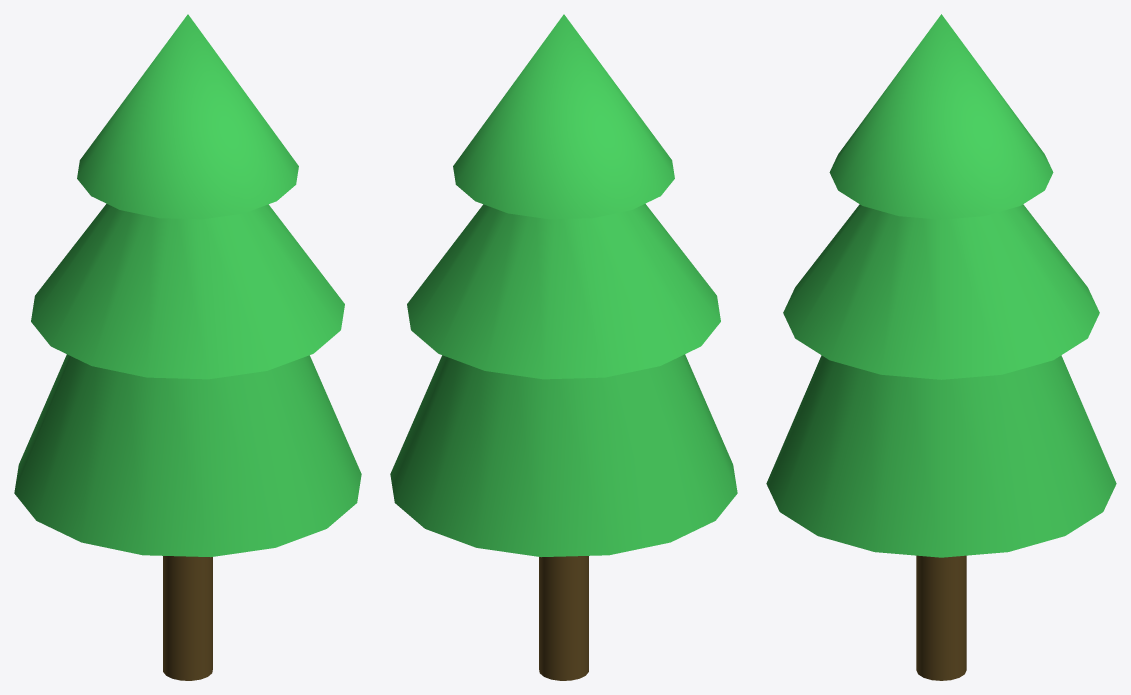
Rendered from PropsTestTree1.gltf.
3 views of the same model, side by side, from view 1: azimuth 30°, elevation 25°; view 2: azimuth 150°, elevation 25°; view 3: azimuth 270°, elevation 25° (orthographic).
Visible parts, largest first — view 1: TestTree1-col; view 2: TestTree1-col; view 3: TestTree1-col.
Boxes of the visible parts, bbox=[...] form: TestTree1-col: bbox=[14, 14, 361, 680]; TestTree1-col: bbox=[390, 14, 737, 680]; TestTree1-col: bbox=[766, 14, 1116, 680].
Bounding box in the file's own units: 2.87 × 5.93 × 2.87.
1 material, 1 textured.
